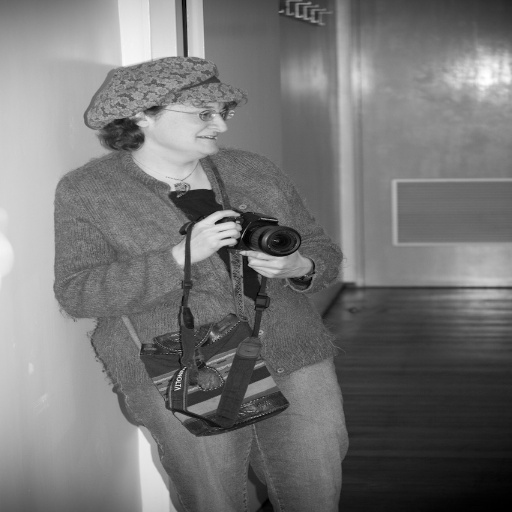hand: (176, 212, 236, 261), (238, 248, 308, 279)
